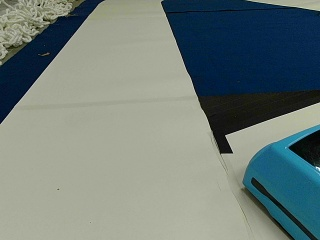car: (241, 125, 319, 238)
